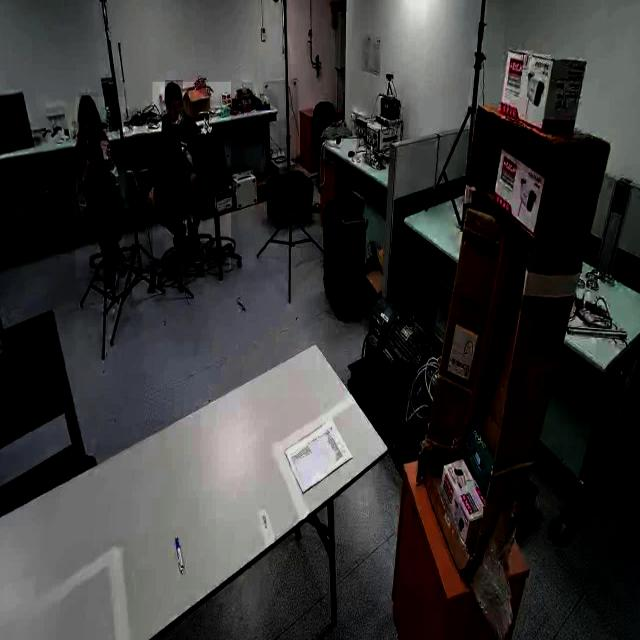head_nohelmet: (78, 92, 98, 110), (165, 80, 183, 98)
person: (152, 82, 231, 270), (75, 97, 125, 278)
